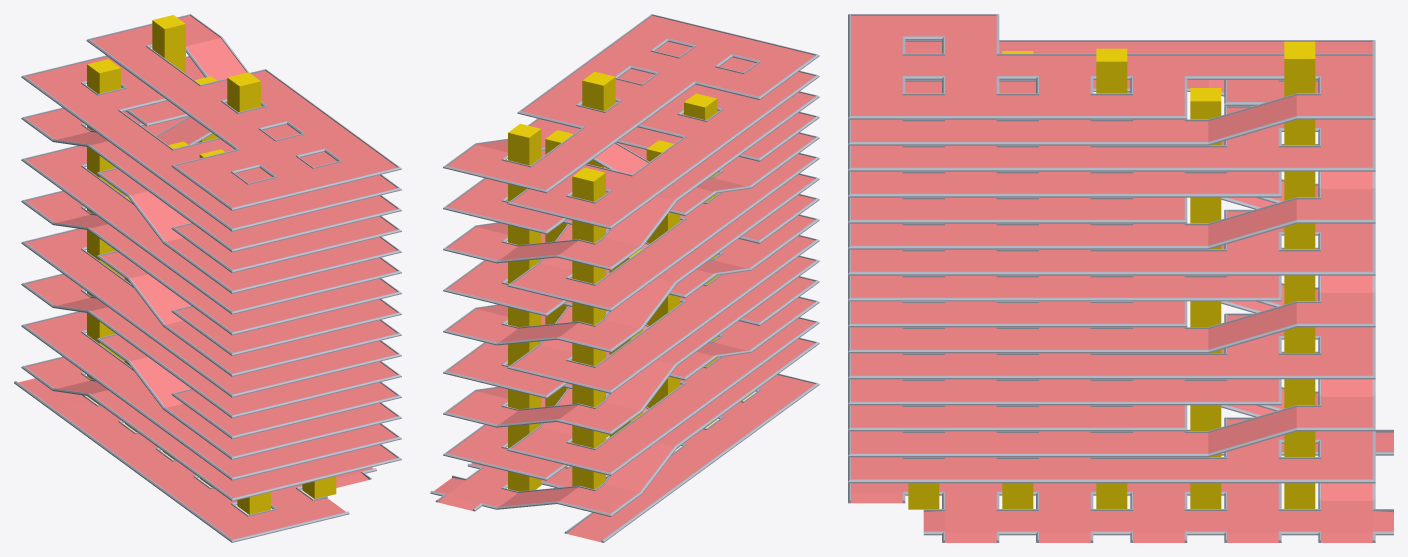
Rendered from JILXT_03.glb.
3 views of the same model, side by side, from view 1: azimuth 30°, elevation 25°; view 2: azimuth 150°, elevation 25°; view 3: azimuth 270°, elevation 25° (orthographic). The views are drawn at different scales.
Visible parts, largest first — view 1: mass; view 2: mass; view 3: mass.
Boxes of the visible parts, <box> form: mass: <box>14,14,401,542</box>; mass: <box>430,14,819,542</box>; mass: <box>848,14,1393,542</box>.
Size of what is drawn, in the model's own units: 44.81 by 84.55 by 92.74.
